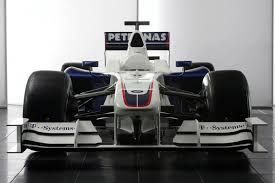f1_car: (4, 18, 272, 158)
